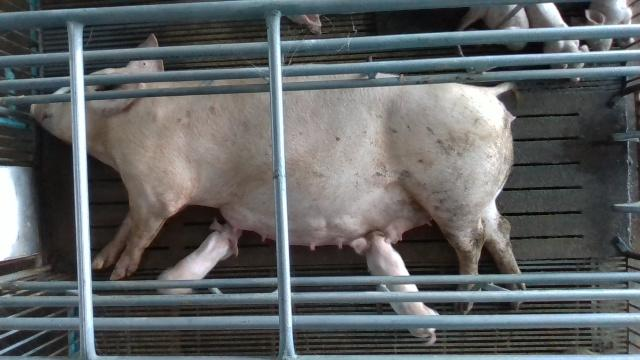piglet: (349, 223, 441, 344), (156, 217, 240, 294), (526, 2, 589, 81), (572, 0, 634, 50)
sow-sleep-lactate: (29, 31, 527, 315)
